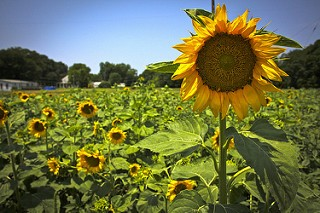flower: (169, 1, 290, 123), (75, 149, 107, 176), (26, 117, 48, 140), (76, 99, 99, 120), (105, 126, 128, 147)
